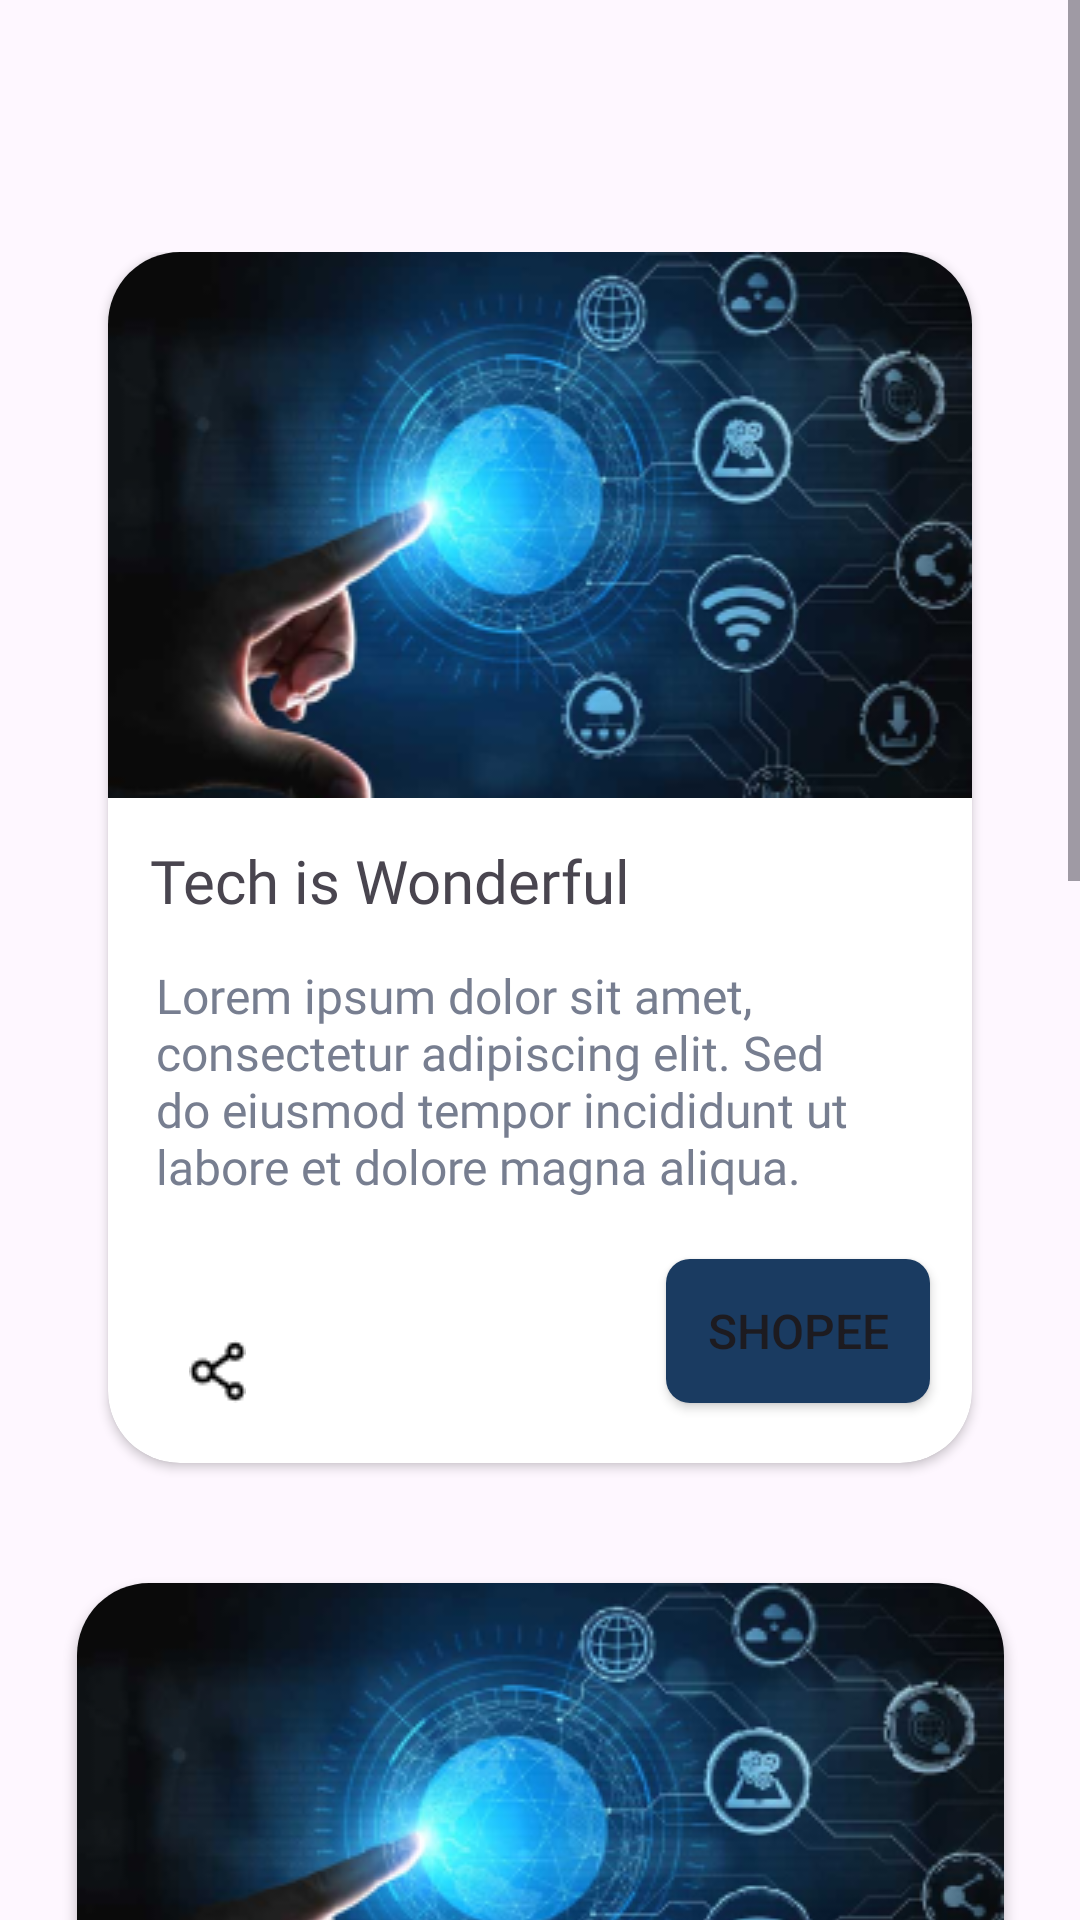

Screen size 1080x1920. Icon name, then its center in pixels as (x,y):
share: (217,1371)
